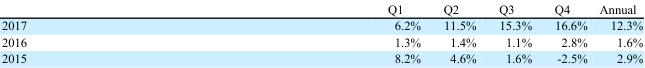table: (0, 1, 642, 64)
table column: (206, 1, 431, 64), (0, 1, 206, 64), (486, 1, 542, 64), (431, 1, 486, 64), (542, 1, 592, 64), (592, 1, 642, 64)
table column header: (0, 1, 642, 16)
table row: (0, 16, 642, 33), (0, 33, 642, 49), (0, 1, 642, 16), (0, 49, 642, 64)
